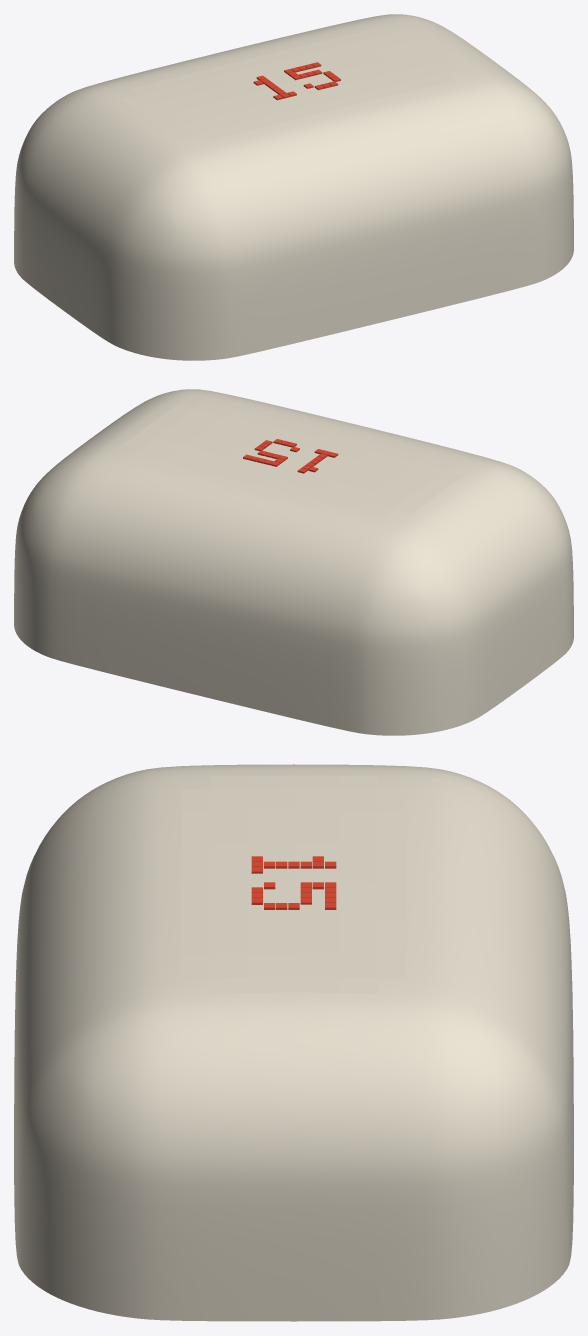
The model's file is case_lid.glb.
3 views of the same model, one above another, from view 1: azimuth 30°, elevation 25°; view 2: azimuth 150°, elevation 25°; view 3: azimuth 270°, elevation 25° (orthographic). The views are drawn at different scales.
Parts seen in each view (by area): view 1: Case lid; view 2: Case lid; view 3: Case lid.
Boxes of the visible parts, box(x1,y1,x2,y2) form: Case lid: box(14, 14, 573, 360); Case lid: box(14, 389, 573, 735); Case lid: box(14, 764, 573, 1321).
Size of the model in its own units: 5.69 by 2.09 by 3.89.
